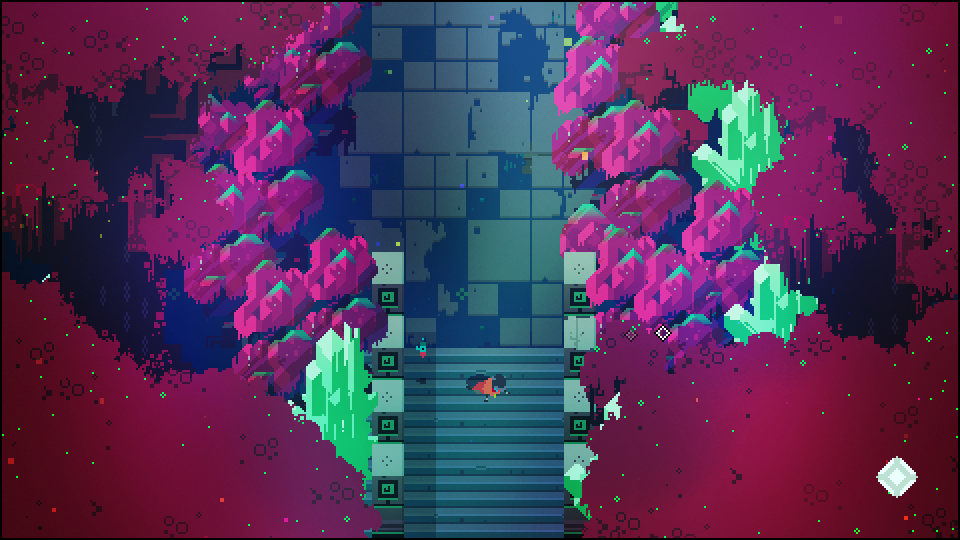player: (465, 368, 513, 402)
